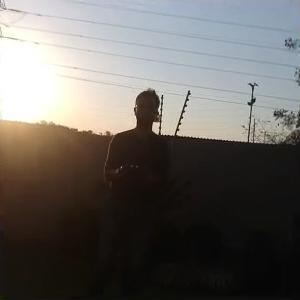follow: (99, 83, 172, 299)
